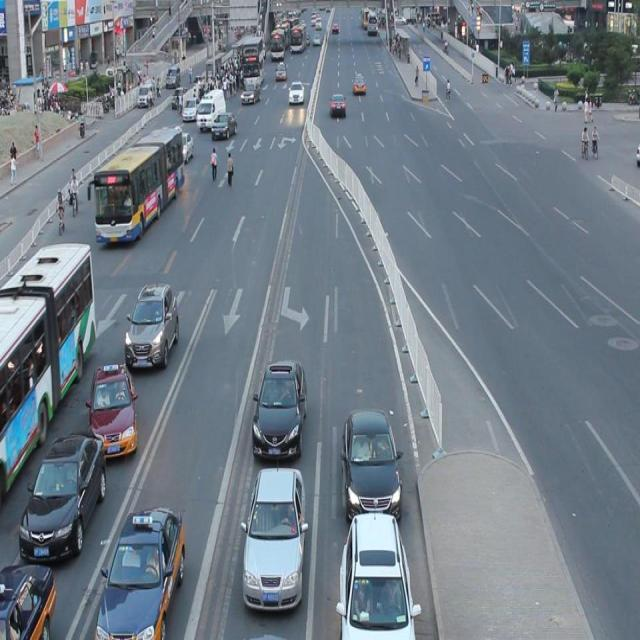car: (95, 499, 186, 640), (20, 425, 107, 560), (338, 506, 419, 640), (242, 460, 306, 606), (342, 401, 401, 518), (250, 353, 308, 458), (123, 281, 180, 373), (88, 357, 140, 456), (1, 557, 58, 640)
van: (0, 242, 96, 492), (94, 128, 184, 244)
